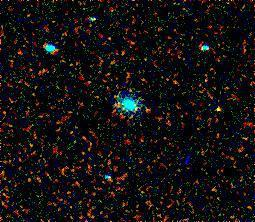star: (206, 95, 236, 125)
